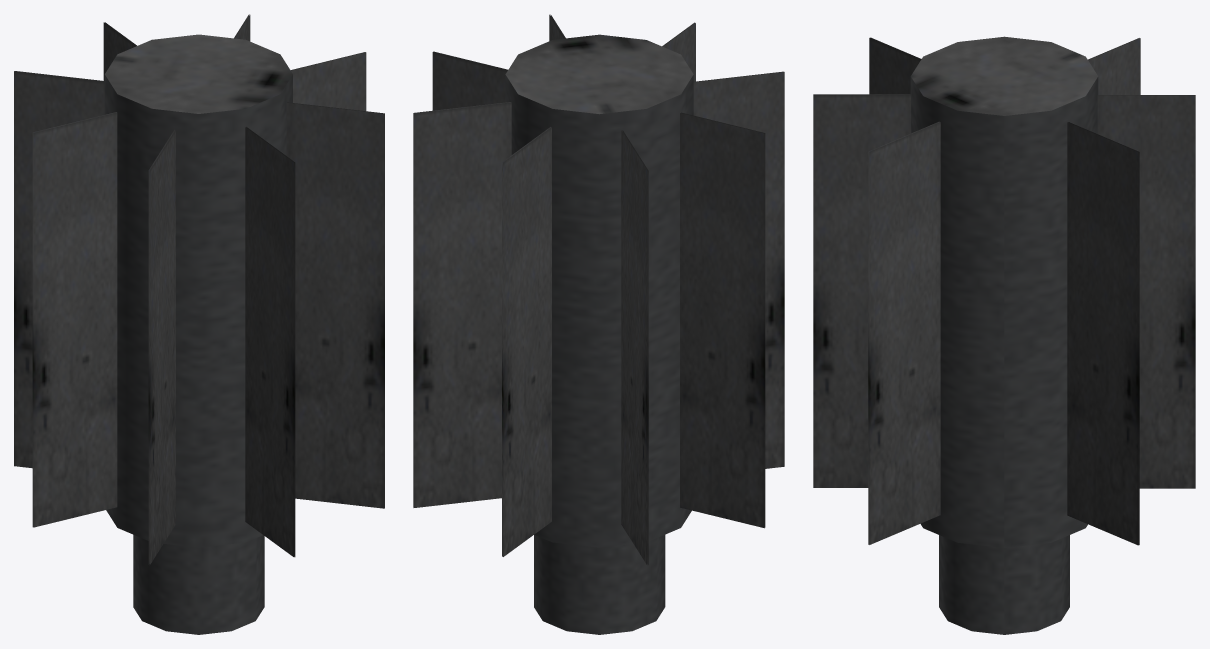
File: rtg.DAE
The picture shows the model from 3 angles, left to right: view 1: azimuth 30°, elevation 25°; view 2: azimuth 150°, elevation 25°; view 3: azimuth 270°, elevation 25°; orthographic projection.
Parts seen in each view (by area): view 1: Cylinder01; view 2: Cylinder01; view 3: Cylinder01.
Boxes of the visible parts, x1,y1,x2,y2 form: Cylinder01: [14, 14, 384, 634]; Cylinder01: [413, 14, 784, 634]; Cylinder01: [813, 36, 1195, 634].
Size of what is drawn, in the model's own units: 0.3329 by 0.5098 by 0.3329.
